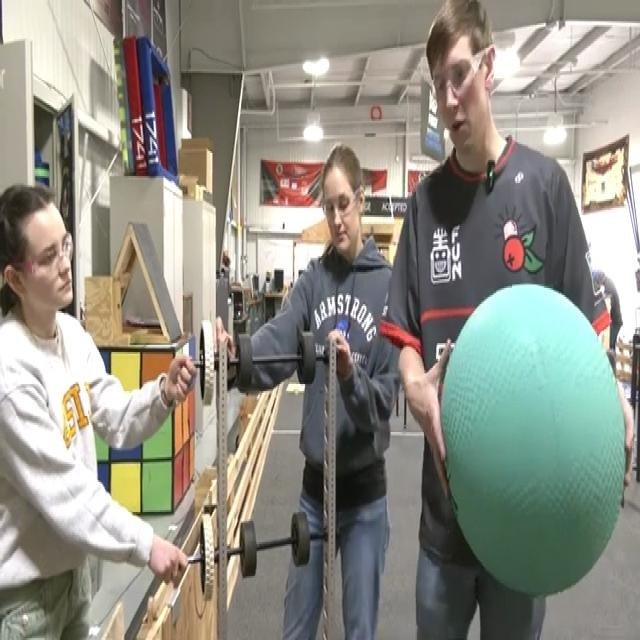Algae: (439, 279, 626, 597)
